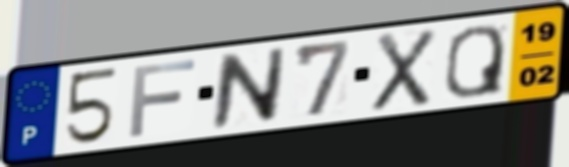5: (63, 65, 122, 147)
7: (292, 38, 355, 119)
F: (126, 57, 199, 140)
N: (208, 45, 289, 132)
Q: (442, 22, 506, 100)
X: (368, 26, 440, 115)
